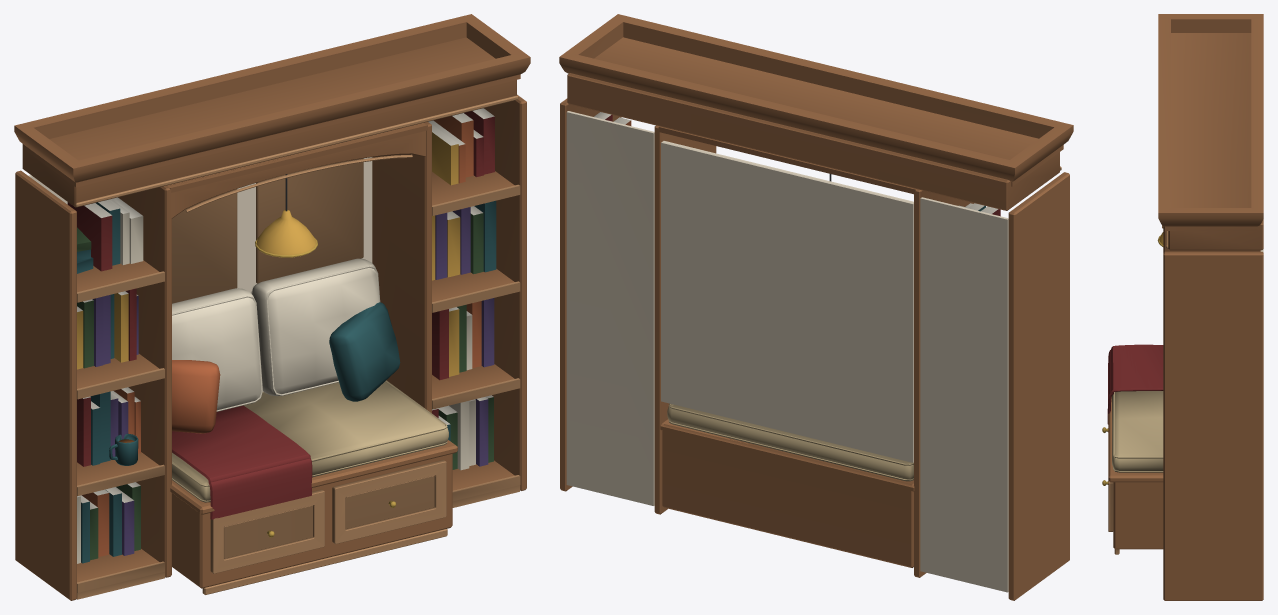
The model's file is readingNook.glb.
The picture shows the model from 3 angles, left to right: view 1: azimuth 30°, elevation 25°; view 2: azimuth 150°, elevation 25°; view 3: azimuth 270°, elevation 25°; orthographic projection. The views are drawn at different scales.
Parts seen in each view (by area): view 1: body, seat; view 2: body, seat; view 3: body, seat.
Part boxes in pixels (bbox=[...]): body: bbox=[14, 14, 530, 600]; seat: bbox=[172, 380, 448, 519]; body: bbox=[559, 14, 1073, 600]; seat: bbox=[667, 403, 913, 481]; body: bbox=[1102, 14, 1263, 600]; seat: bbox=[1107, 344, 1163, 472].
Size of the model in its own units: 1.88 by 1.71 by 0.6441.
